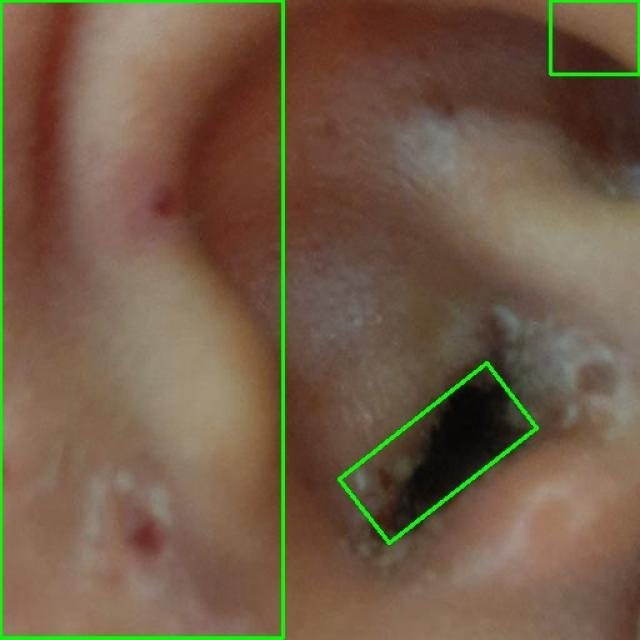Contact Dermatitis: (0, 0, 284, 639), (339, 363, 537, 543), (550, 0, 639, 74)
